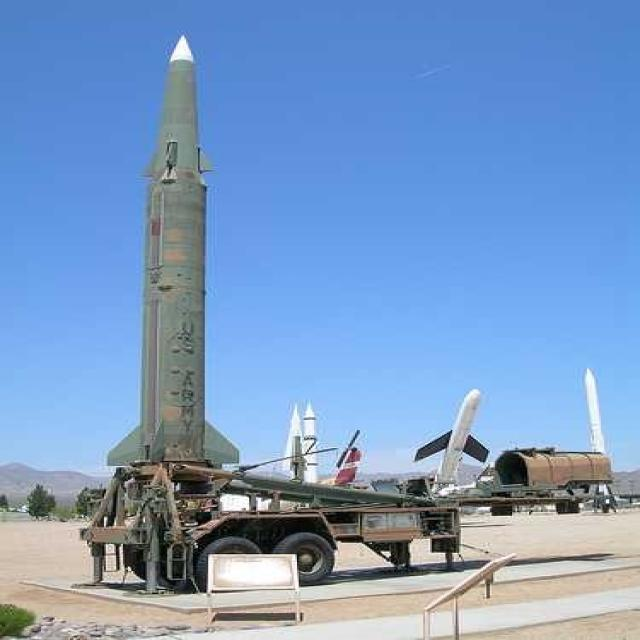missile: (111, 29, 236, 473), (420, 387, 487, 485)
